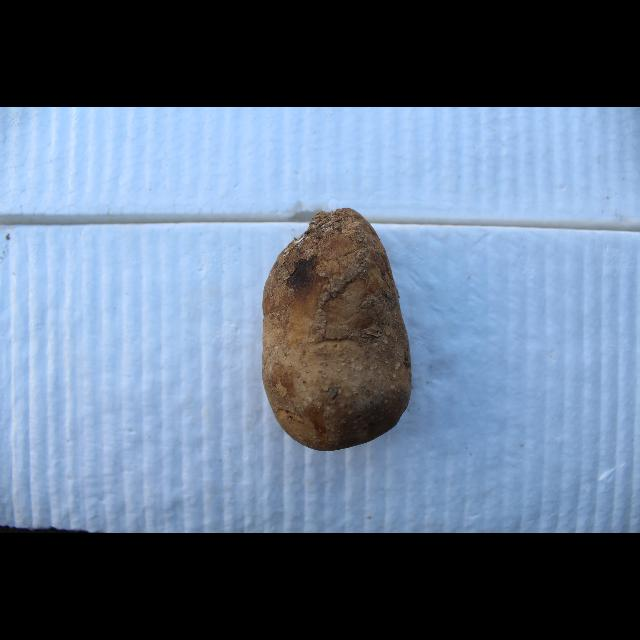Diseased-fungal potato: (260, 204, 414, 458)
